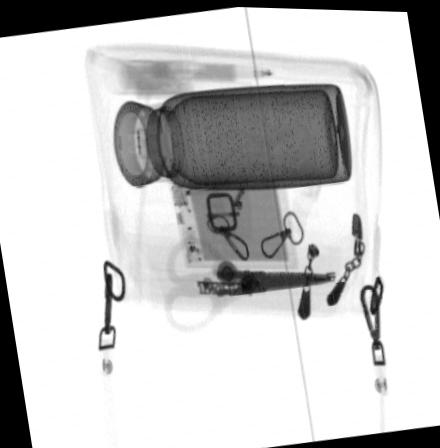Powerbank: (164, 158, 299, 270)
Scissors: (163, 230, 340, 329)
